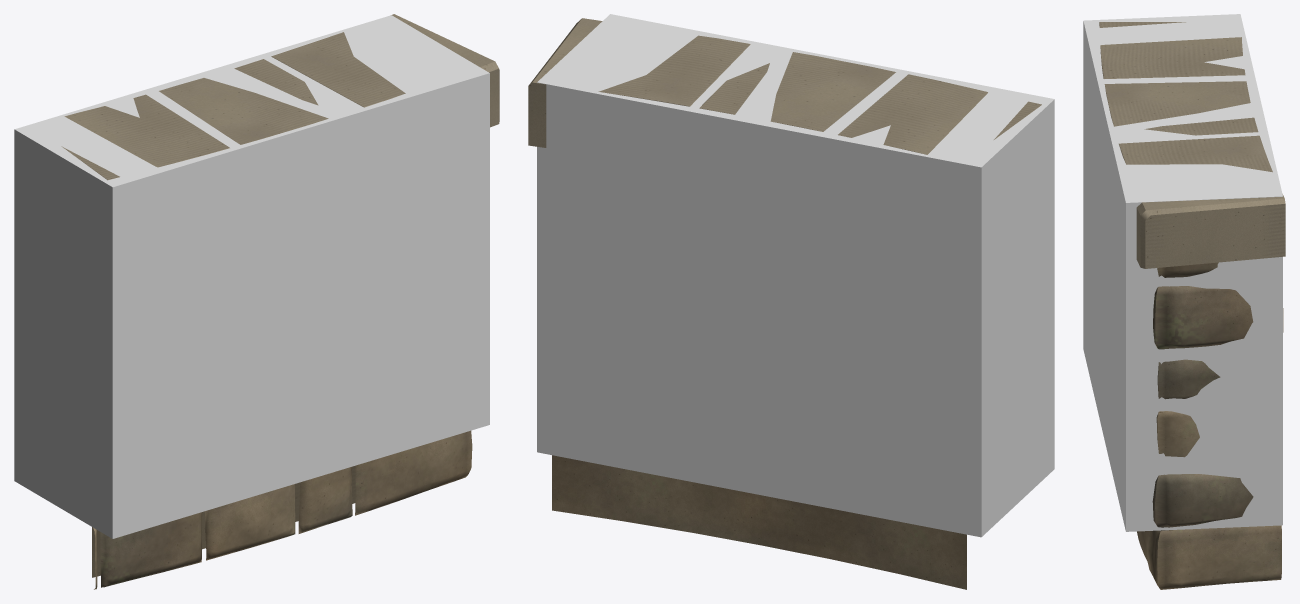
The model's file is retaining_wall_pad_end.gltf.
3 views of the same model, side by side, from view 1: azimuth 30°, elevation 25°; view 2: azimuth 150°, elevation 25°; view 3: azimuth 270°, elevation 25° (orthographic). The views are drawn at different scales.
Visible parts, largest first — view 1: retaining_wall_pad_end_col, retaining_wall_pad_end_LOD0; view 2: retaining_wall_pad_end_col, retaining_wall_pad_end_LOD0; view 3: retaining_wall_pad_end_col, retaining_wall_pad_end_LOD0.
Part boxes in pixels (x1,y1,x2,y2): retaining_wall_pad_end_col: (14,15,489,538); retaining_wall_pad_end_LOD0: (61,14,499,589); retaining_wall_pad_end_col: (537,14,1054,537); retaining_wall_pad_end_LOD0: (528,18,1041,589); retaining_wall_pad_end_col: (1083,14,1282,531); retaining_wall_pad_end_LOD0: (1099,22,1285,589).
Size of what is drawn, in the model's own units: 1.72 by 1.58 by 0.7408.
3 materials, 3 textured.
